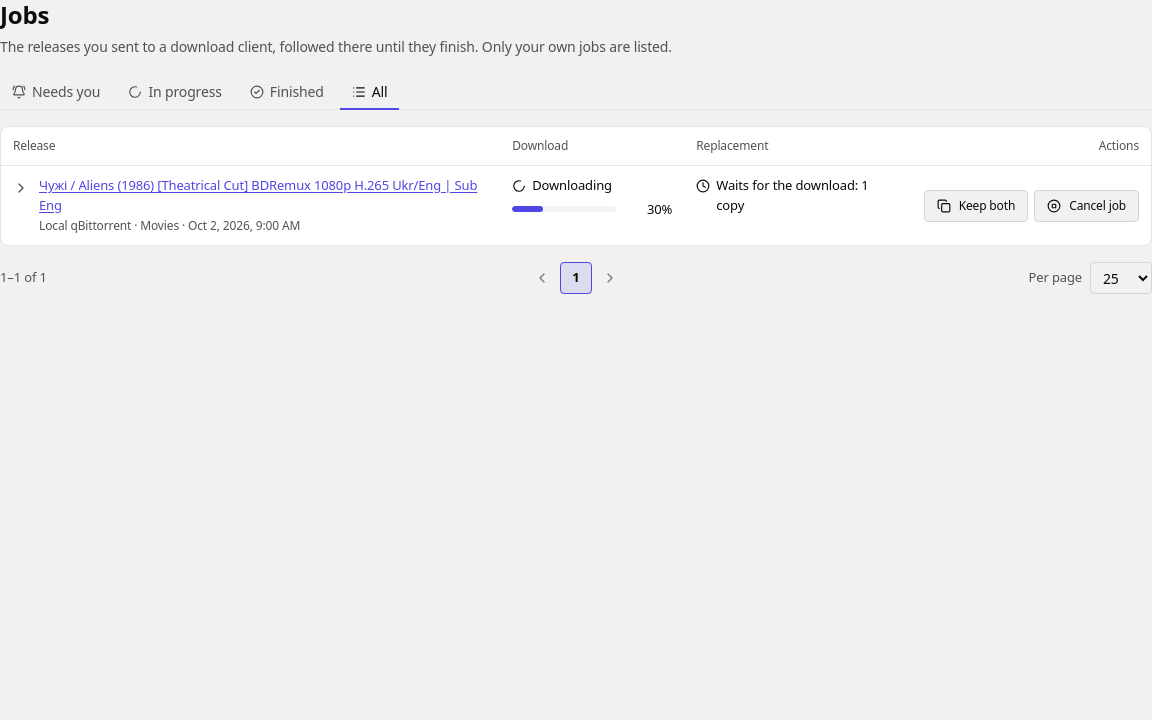
Test case: JobsPage while a job is followed › keeps asking every 2 s after Keep both on a job still downloading, as its download goes on
Expected: the link "Чужі / Aliens (1986) [Theatrical Cut] BDRemux 1080p H.265 Ukr/Eng | Sub Eng" is shown, [39,176,488,215]
Step 1. Click the button "Keep both" → (976, 206), box [924,190,1028,222]
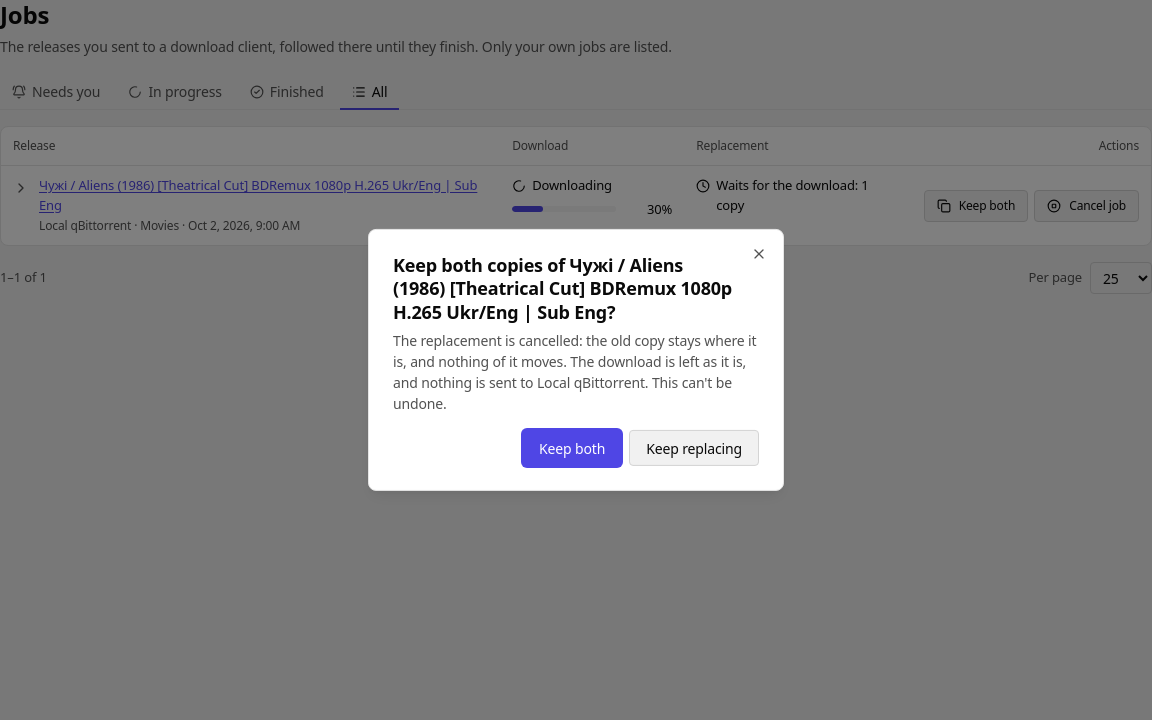
Step 2. Click the button "Keep both" → (572, 448), box [523,430,621,466]
Wait 4000 ms
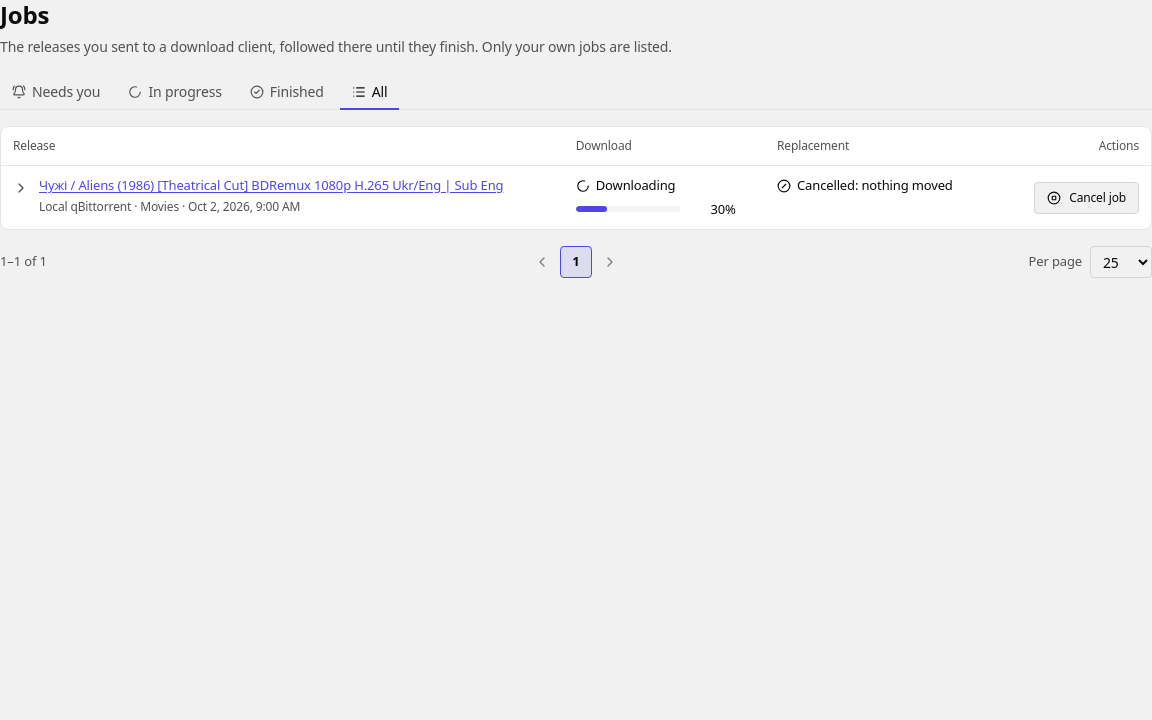
Expected: the text "Cancelled: nothing moved" is shown, [797,176,953,196]
